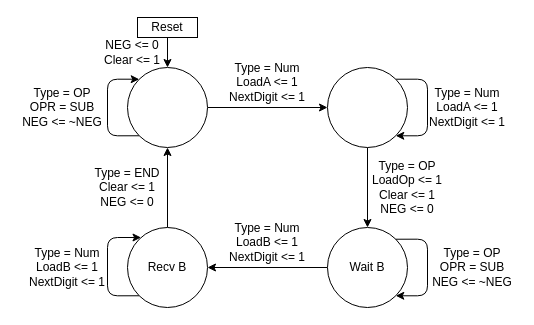
This 534x325 diagram has some shape labels left out. Here are the shapes that lost their labels. From the top down, the centre of each, then its label:
(167,107): Wait A
(367,107): Recv A
